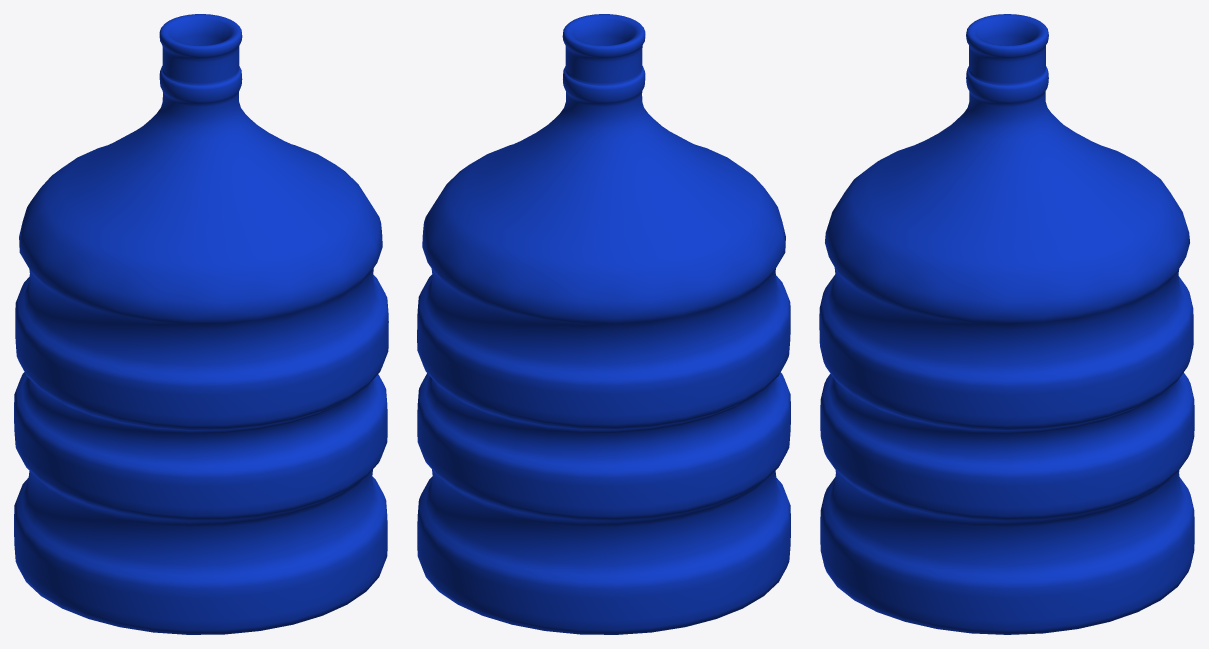
File: galon.obj
The picture shows the model from 3 angles, left to right: view 1: azimuth 30°, elevation 25°; view 2: azimuth 150°, elevation 25°; view 3: azimuth 270°, elevation 25°; orthographic projection.
Visible parts, largest first — view 1: Circle; view 2: Circle; view 3: Circle.
Boxes of the visible parts, x1,y1,x2,y2 form: Circle: (14, 14, 388, 634); Circle: (417, 14, 790, 634); Circle: (819, 14, 1194, 634).
Bounding box in the file's own units: 0.4277 × 0.666 × 0.4279.
